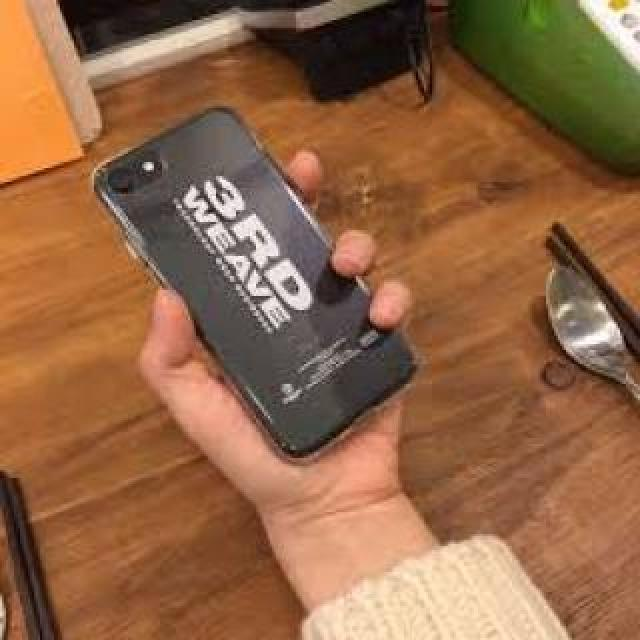smart phone: (77, 95, 469, 476)
